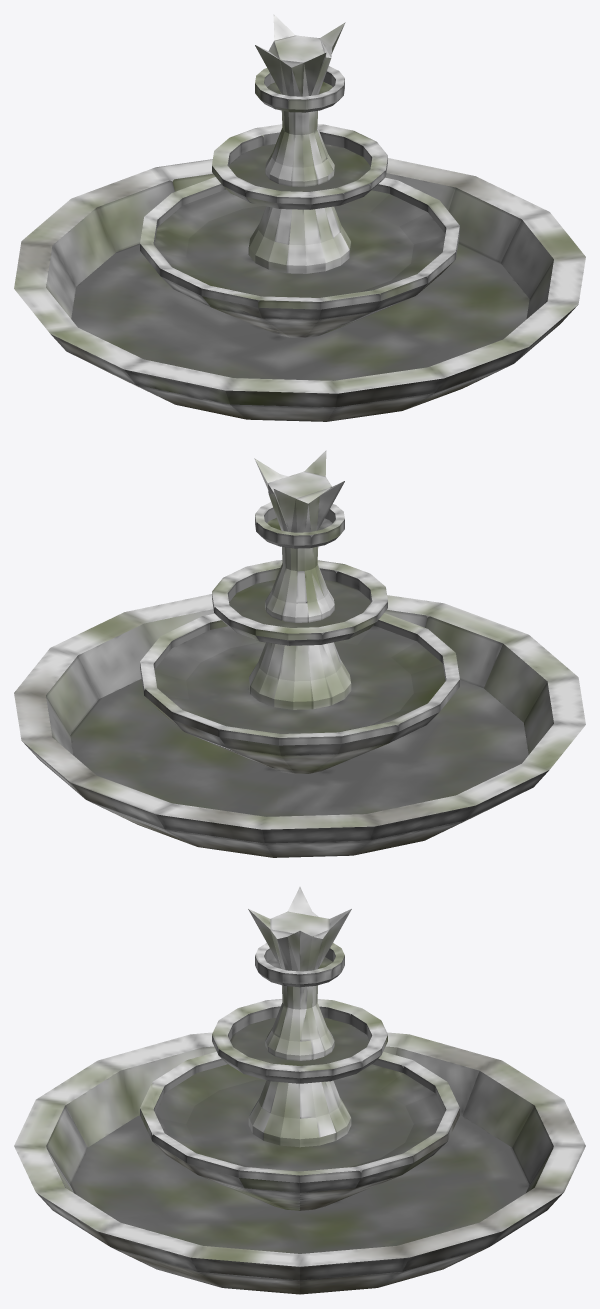
The model's file is Fonte.fbx.
The picture shows the model from 3 angles, top to bottom: view 1: azimuth 30°, elevation 25°; view 2: azimuth 150°, elevation 25°; view 3: azimuth 270°, elevation 25°; orthographic projection.
Parts seen in each view (by area): view 1: Cylinder; view 2: Cylinder; view 3: Cylinder.
Boxes of the visible parts, x1=… form: Cylinder: x1=14, y1=14, x2=585, y2=421; Cylinder: x1=14, y1=450, x2=585, y2=857; Cylinder: x1=14, y1=887, x2=585, y2=1294.
Size of the model in its own units: 657 by 380 by 657.
Materials: 1 (1 with a texture image).
